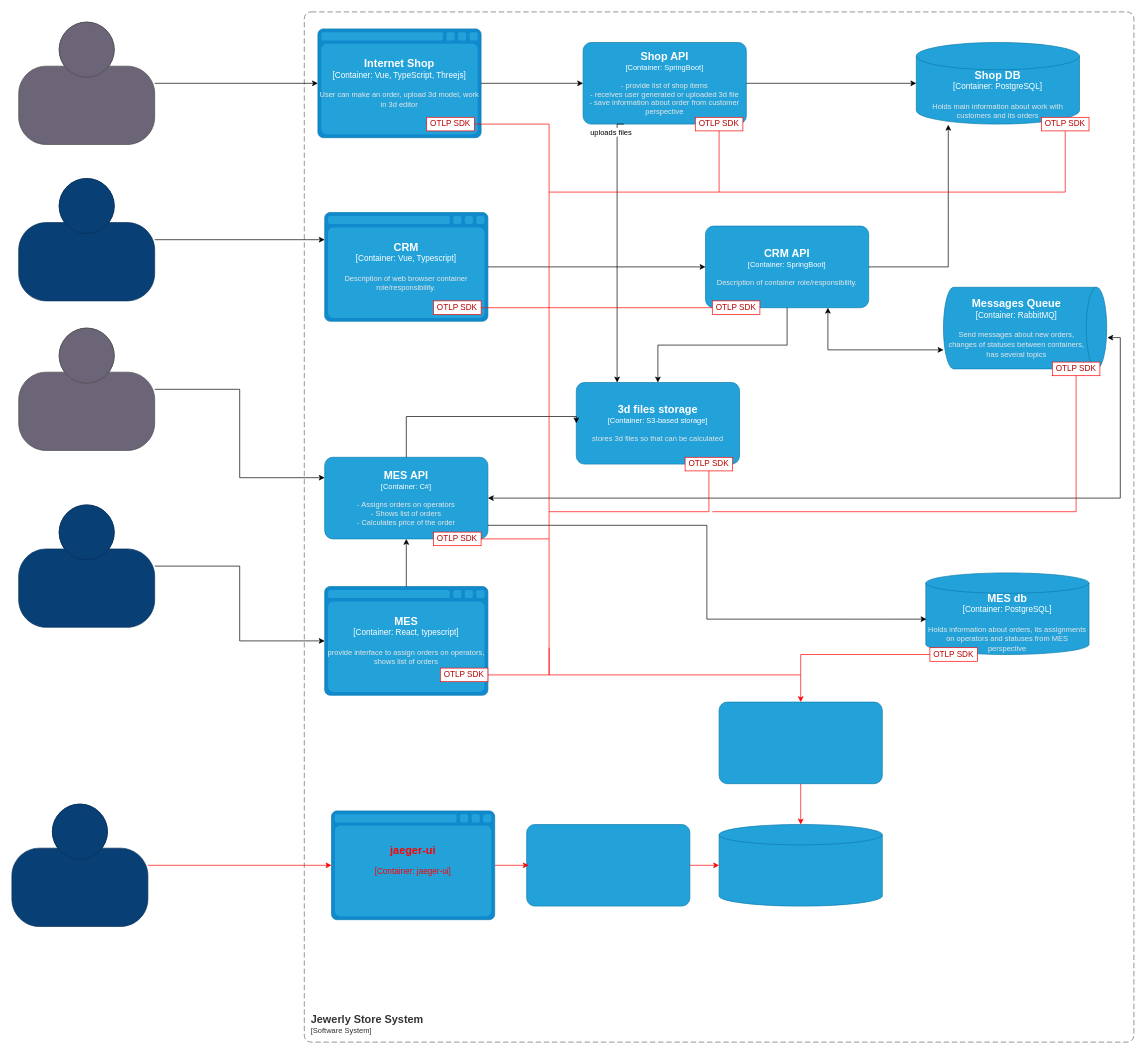
Some shapes in this 1146 by 1054 pixel diagram are drawn without their labels. The shapes that lost their labels are listed below. From the top down, each one's centre as x and y in pixels, then its label:
At point 86,82: "Customer [Person] Description of external person.".
At point 86,239: "Seller [Person] Operates with order, confirms manufacturing for the user".
At point 86,389: "API user [Person] Description of external person.".
At point 86,565: "Operator [Person] Takes order in work, manufactures jewerly".
At point 800,742: "jaeger-collector [Container: jaeger-collector]".
At point 79,865: "Technial Support/Developer [Person]".
At point 608,865: "jaeger-query [Container: jaeger-query]".
At point 800,865: "Elasticsearch [Container: Elasticsearch]".
